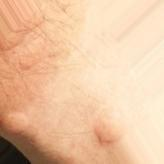Mosquito: (94, 117, 126, 145), (0, 112, 29, 133)
